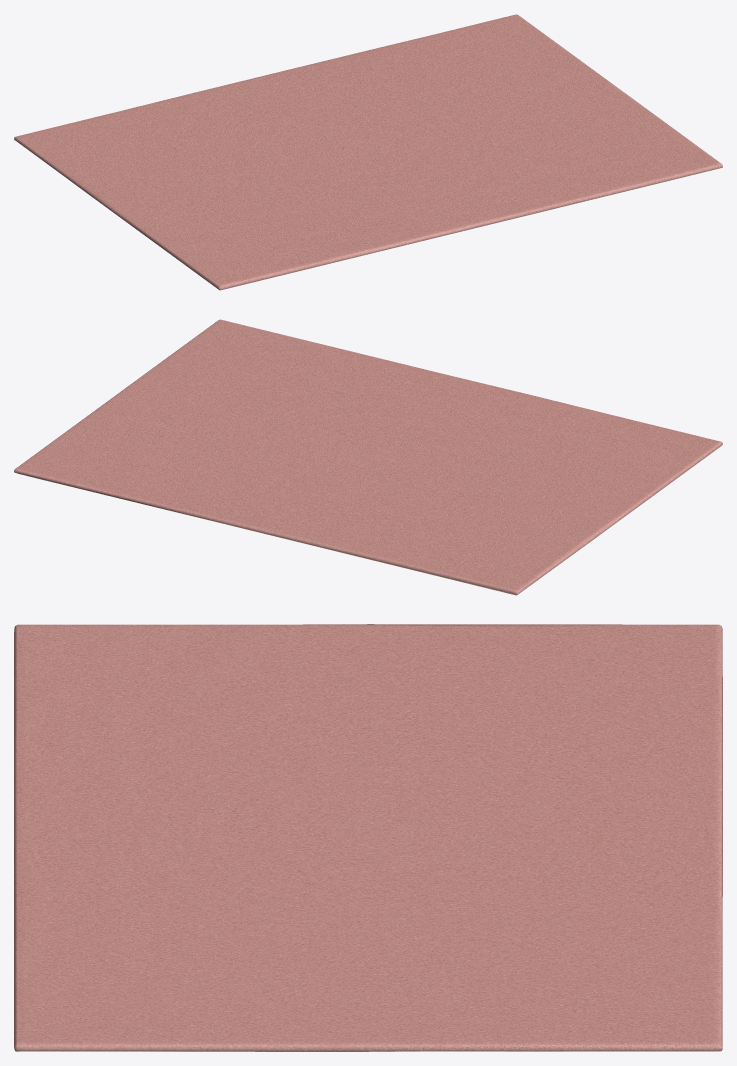
Rendered from 01 - STOENSE Rug, low pile - pale pink 170x240 cm.glb.
The picture shows the model from 3 angles, top to bottom: view 1: azimuth 30°, elevation 25°; view 2: azimuth 150°, elevation 25°; view 3: azimuth 270°, elevation 25°; orthographic projection. The views are drawn at different scales.
Parts seen in each view (by area): view 1: ASY_ART_40629150_S01_NV01; view 2: ASY_ART_40629150_S01_NV01; view 3: ASY_ART_40629150_S01_NV01.
Part boxes in pixels (bbox=[...]): ASY_ART_40629150_S01_NV01: bbox=[14, 14, 722, 290]; ASY_ART_40629150_S01_NV01: bbox=[14, 319, 722, 595]; ASY_ART_40629150_S01_NV01: bbox=[14, 624, 722, 1051].
Bounding box in the file's own units: 2.4 × 0.0193 × 1.7.
Materials: 2 (2 with a texture image).
